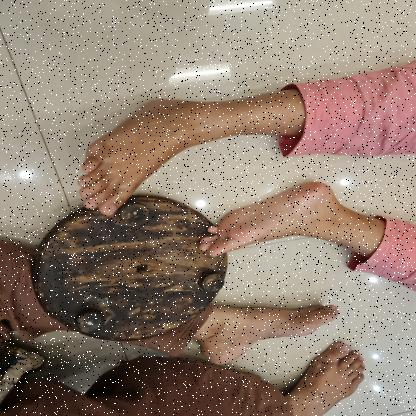leg: (64, 78, 303, 220), (191, 174, 385, 280), (192, 290, 348, 371), (289, 335, 375, 416)
